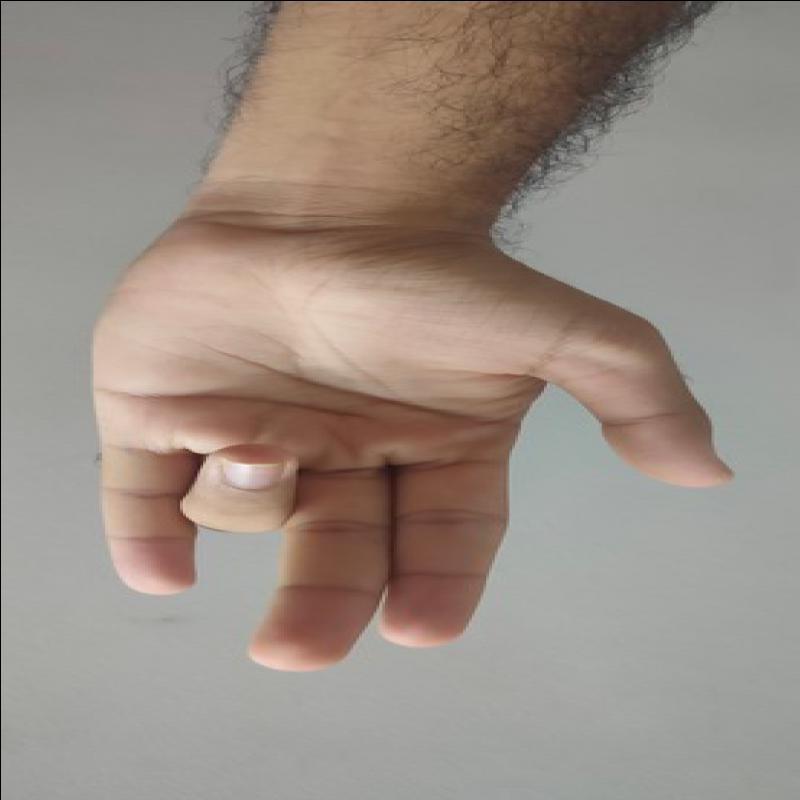Pathaaka: (83, 198, 748, 673)
